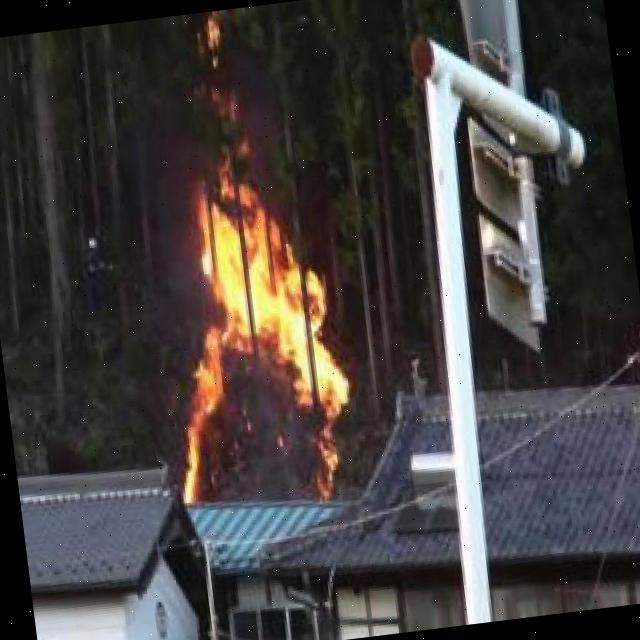fire: (138, 78, 350, 508)
